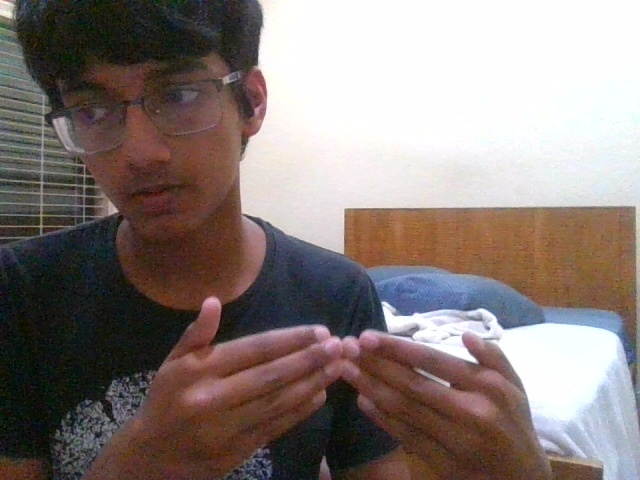thanks: (125, 302, 543, 475)
